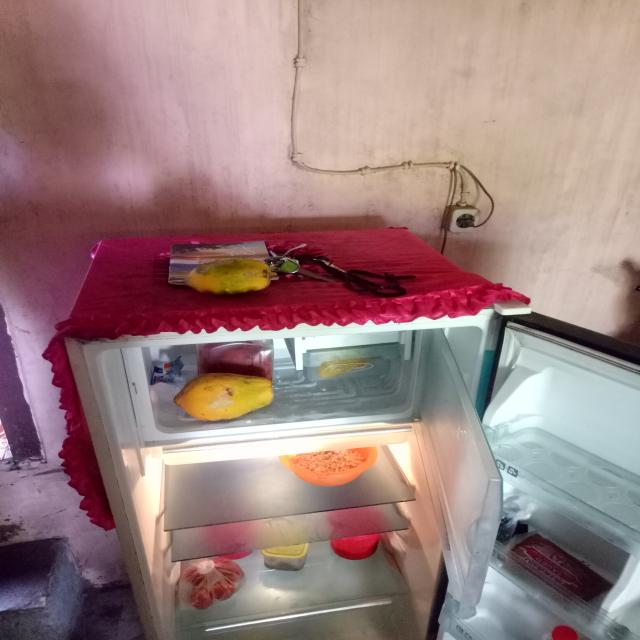Pepaya rippen: (163, 367, 282, 419), (176, 253, 277, 294)
